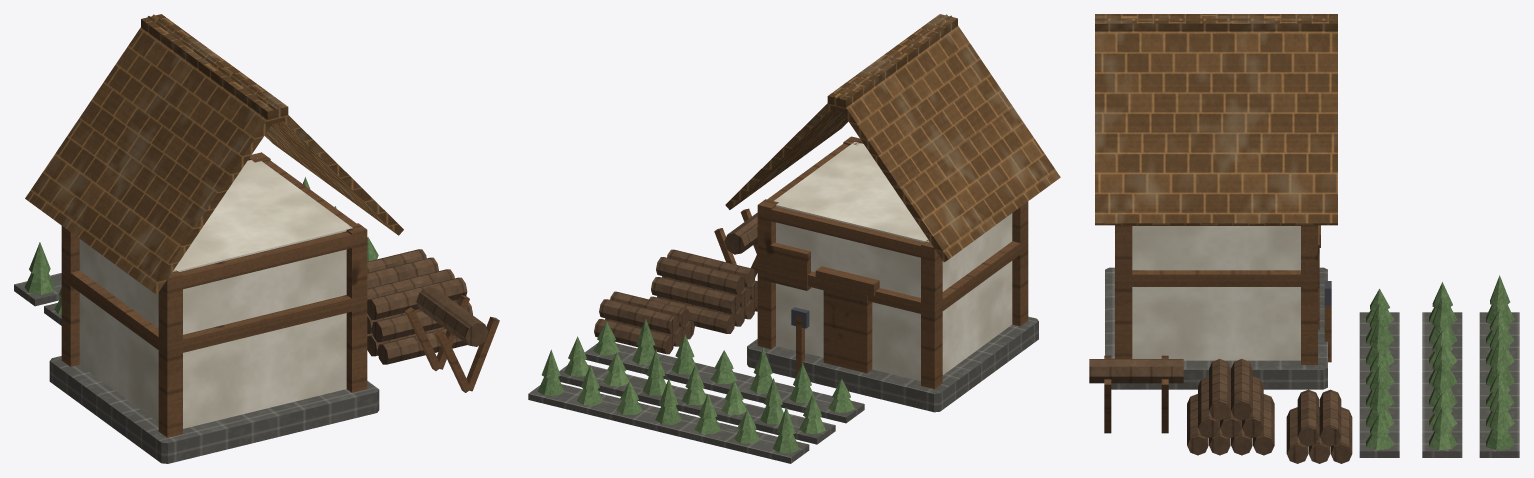
Rendered from lumberyard.gltf.
The picture shows the model from 3 angles, left to right: view 1: azimuth 30°, elevation 25°; view 2: azimuth 150°, elevation 25°; view 3: azimuth 270°, elevation 25°; orthographic projection. The views are drawn at different scales.
Visible parts, largest first — view 1: Lumberyard; view 2: Lumberyard; view 3: Lumberyard.
Boxes of the visible parts, x1=… form: Lumberyard: x1=14, y1=14, x2=499, y2=463; Lumberyard: x1=528, y1=14, x2=1060, y2=463; Lumberyard: x1=1089, y1=14, x2=1519, y2=463.
Size of the model in its own units: 3.05 by 2.49 by 3.01.
12 materials, 10 textured.
